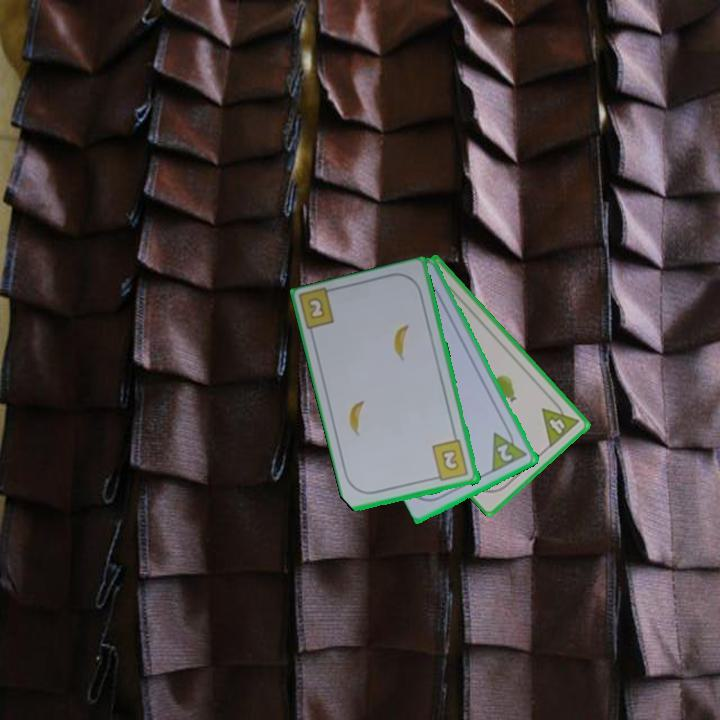2b: (429, 437, 471, 484), (306, 296, 326, 320)
2p: (494, 440, 516, 465)
4p: (538, 396, 582, 450)
